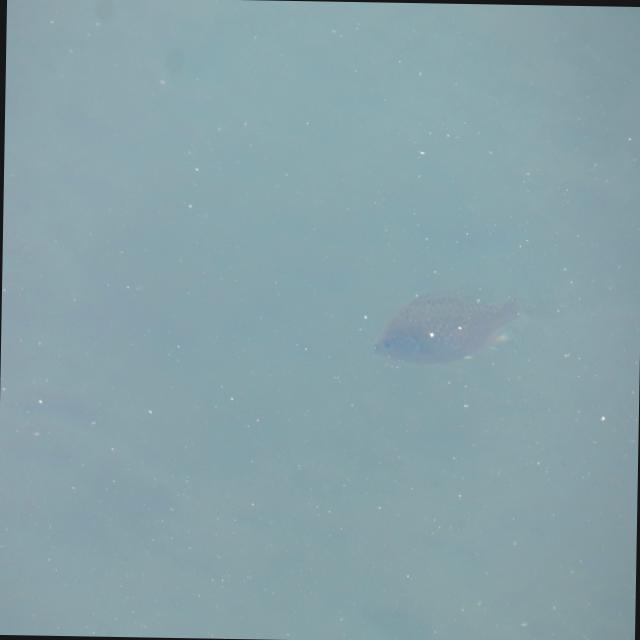Gunes Levregi: (371, 282, 522, 365)
